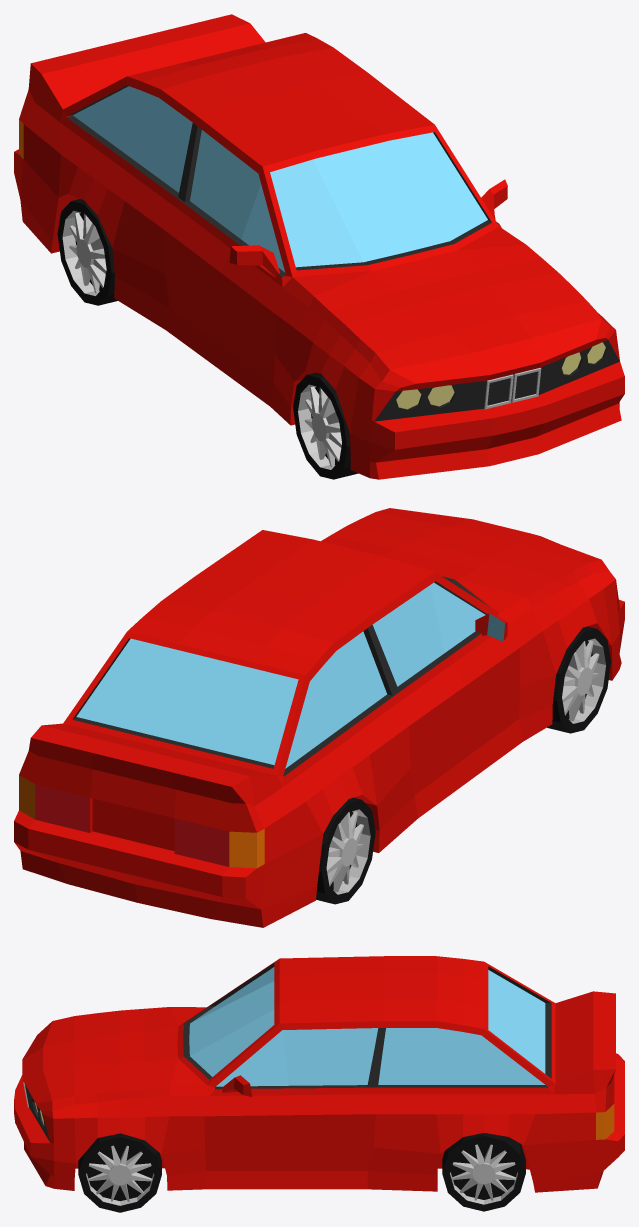
3 views of the same model, one above another, from view 1: azimuth 30°, elevation 25°; view 2: azimuth 150°, elevation 25°; view 3: azimuth 270°, elevation 25° (orthographic). The views are drawn at different scales.
Visible parts, largest first — view 1: Cube, FR, RR; view 2: Cube, FR, RR; view 3: Cube, RL, FL.
Boxes of the visible parts, bbox=[...] form: Cube: bbox=[14, 14, 624, 479]; FR: bbox=[293, 372, 358, 479]; RR: bbox=[57, 199, 117, 305]; Cube: bbox=[14, 508, 624, 927]; FR: bbox=[547, 626, 610, 733]; RR: bbox=[316, 797, 375, 904]; Cube: bbox=[14, 956, 624, 1192]; RL: bbox=[442, 1133, 525, 1211]; FL: bbox=[78, 1133, 161, 1212].
Size of the model in its own units: 199 by 159 by 497.
